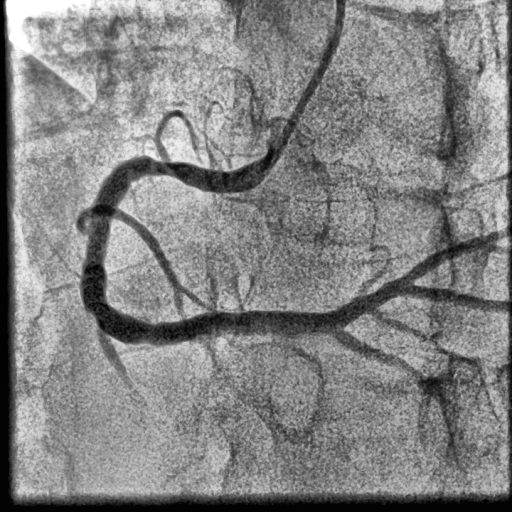pborca: (333, 232, 499, 328)
pda: (332, 330, 461, 464)
rca: (81, 147, 345, 346)
